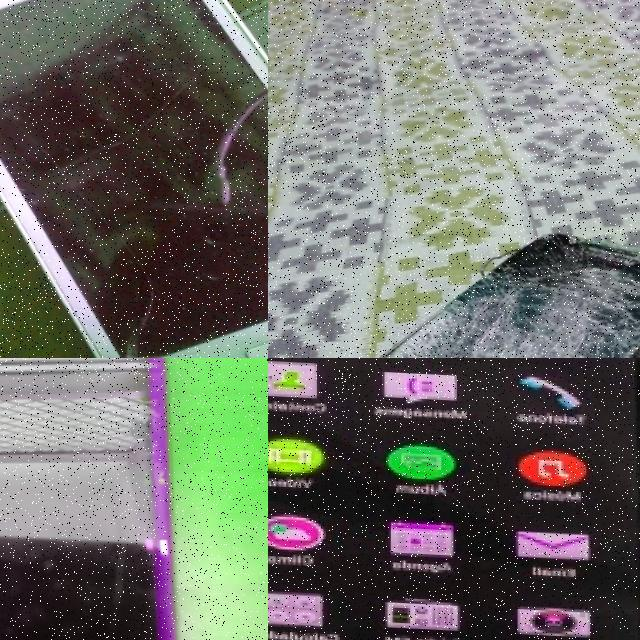screen crack: (282, 212, 640, 358), (92, 266, 213, 358), (94, 369, 187, 481)
